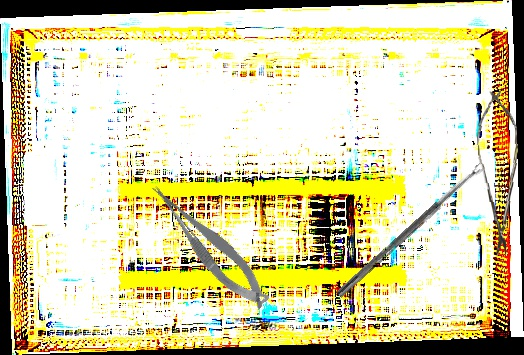Micro Scissor: (145, 169, 276, 321), (474, 88, 524, 258)
Surgical Spoon: (335, 162, 487, 299)
